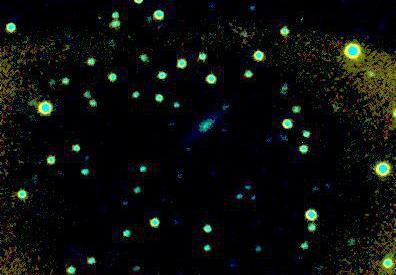star: (155, 187, 185, 217)
